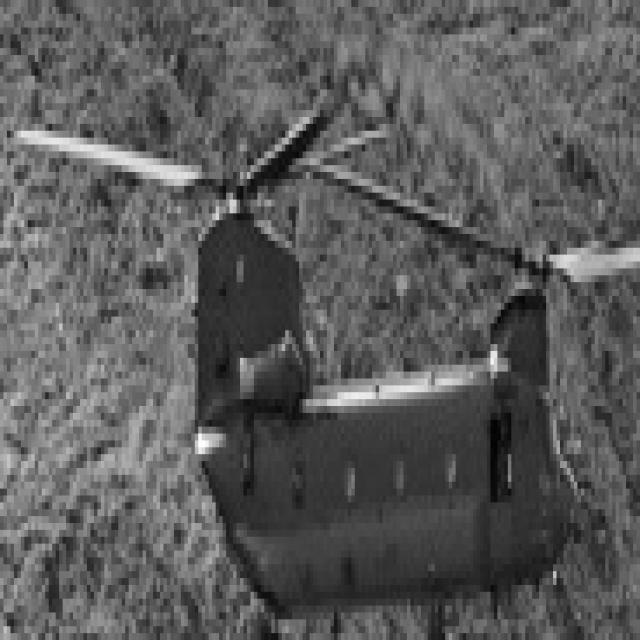Helicopter: (195, 167, 578, 605)
